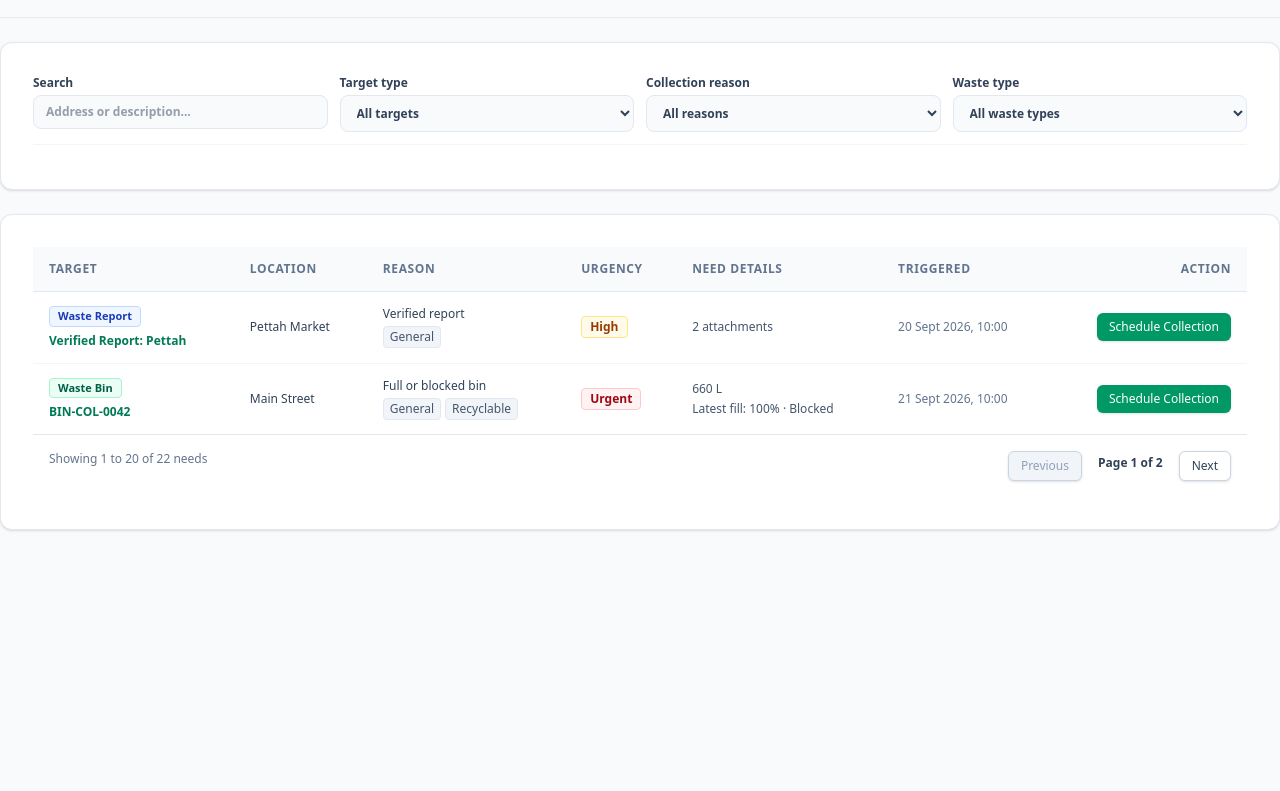
Test case: CollectionNeedsPage › shows safe validation and conflict messages without closing the form
Click the button with test id "schedule-need-bin-1" at (1164, 399), box 1097,385 -> 1231,413
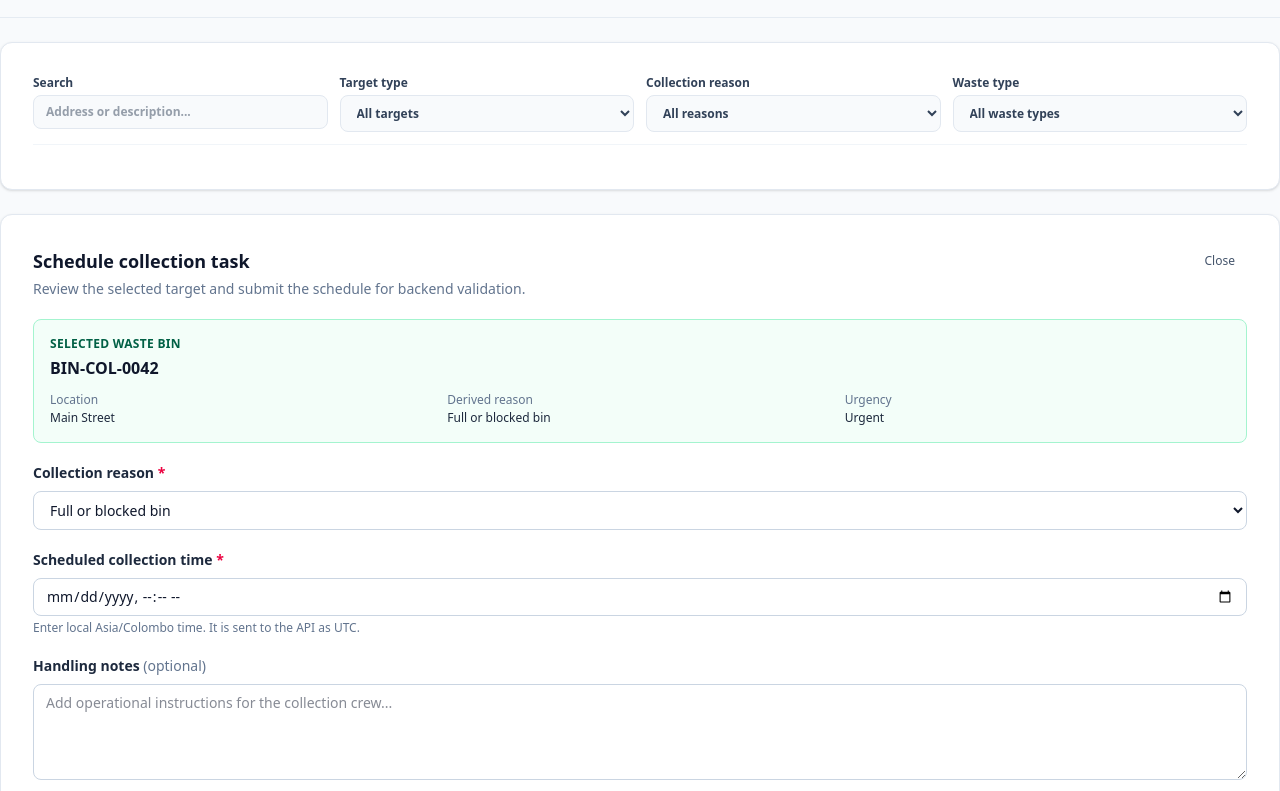
Type "2099-01-01T10:00" into the field labelled "Scheduled collection time *" at (640, 597), box 33,578 -> 1247,616
(page scrolled)
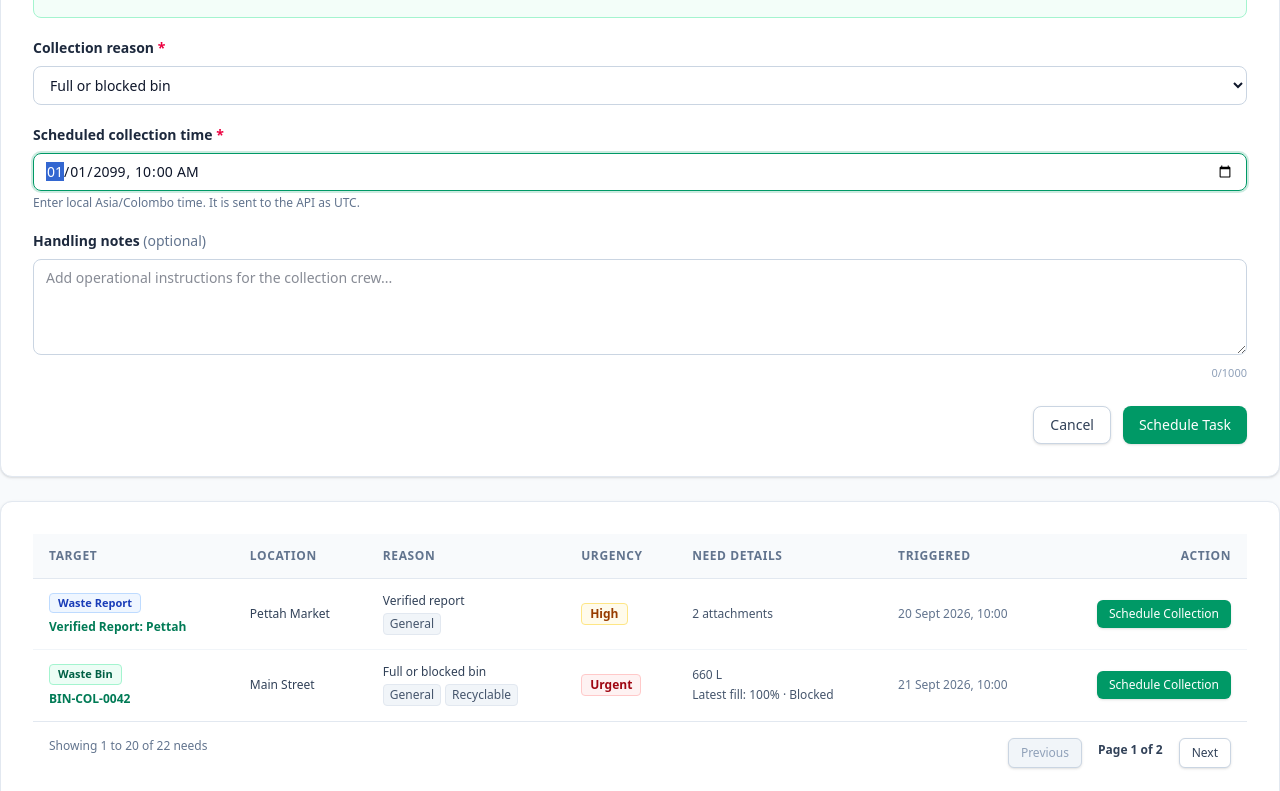
Click the button "Schedule Task" at (1185, 424), box 1123,406 -> 1247,444
(page scrolled)
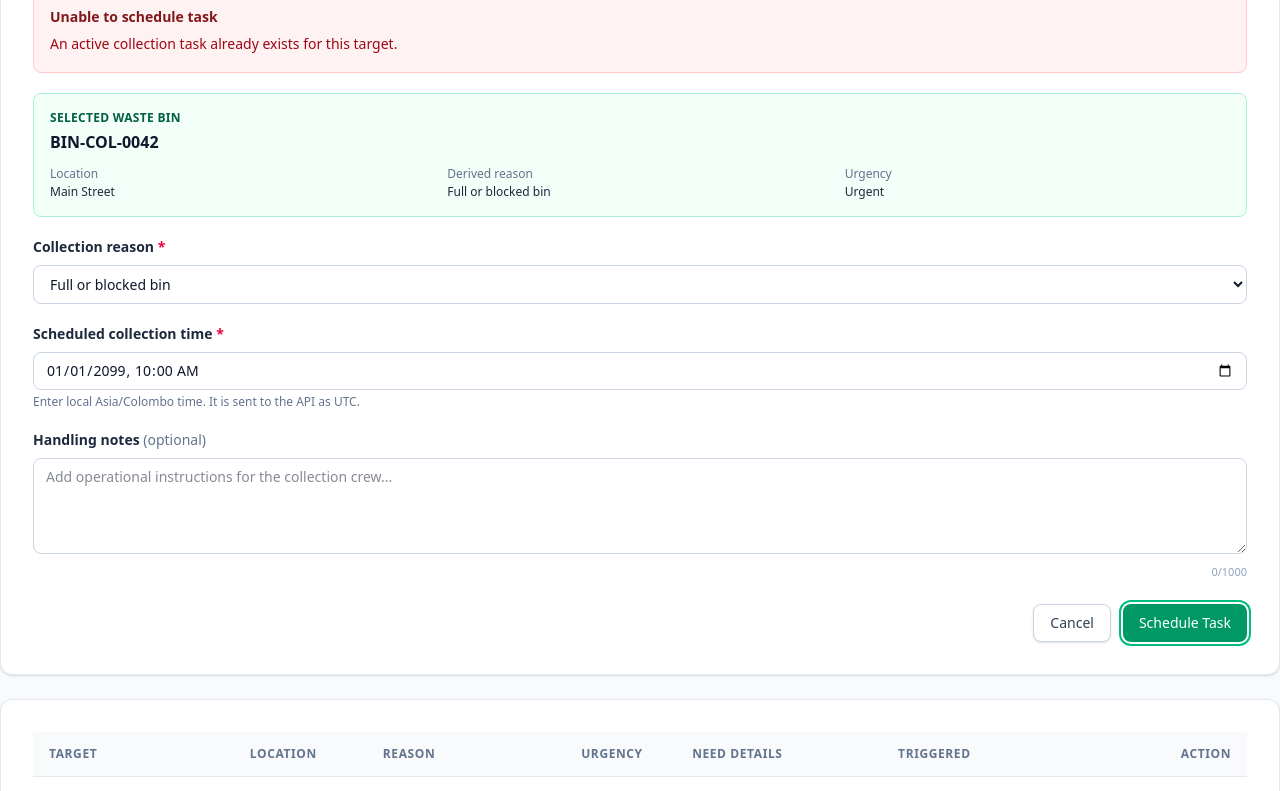
Check: the form with test id "manual-task-form" is shown
Check: the text "An active collection task already exists for this target." is shown, box 50,34 -> 397,53
